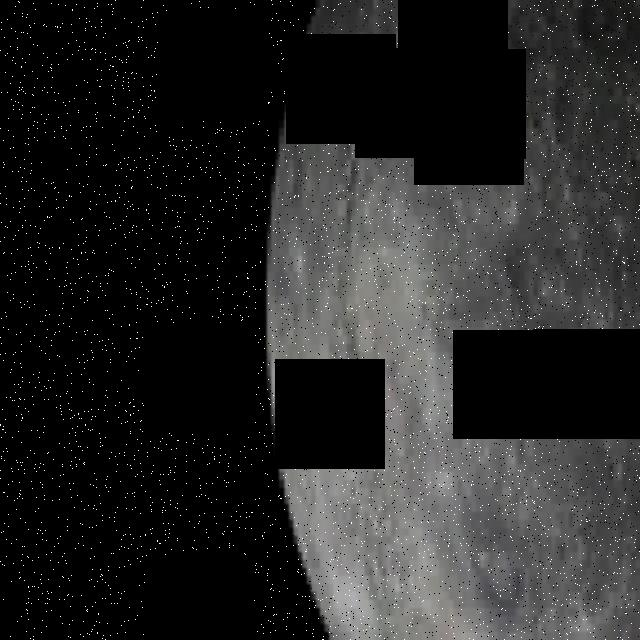Mercury: (267, 0, 640, 640)
